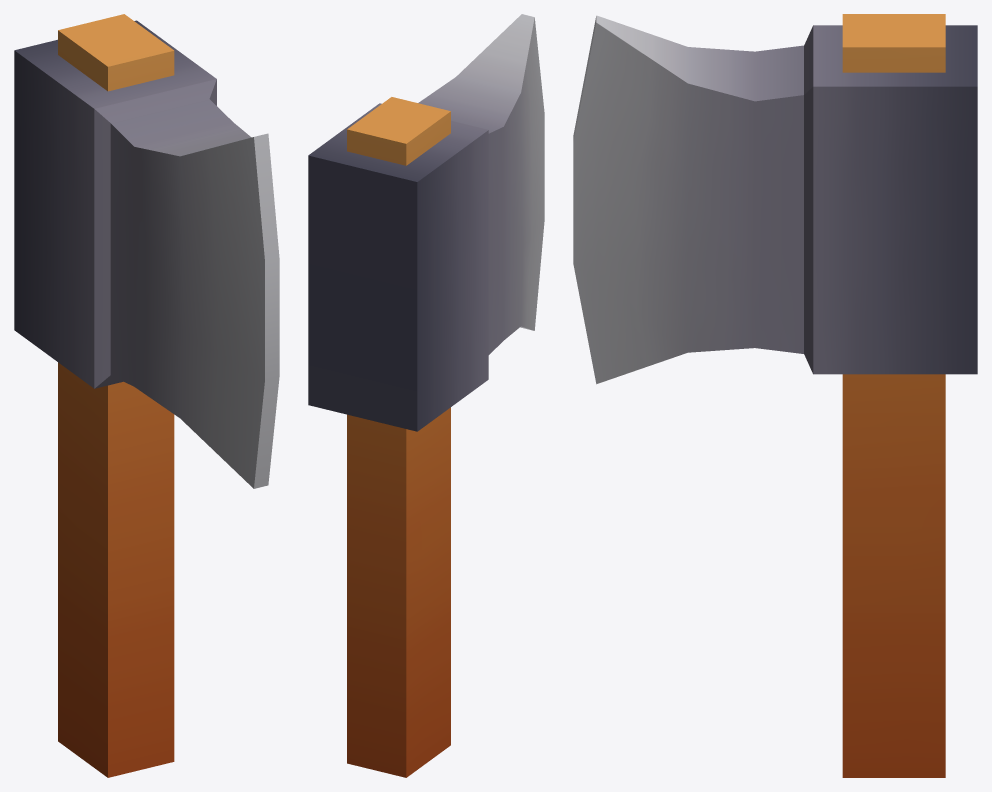
Rendered from SM_Axe.fbx.
The picture shows the model from 3 angles, left to right: view 1: azimuth 30°, elevation 25°; view 2: azimuth 150°, elevation 25°; view 3: azimuth 270°, elevation 25°; orthographic projection. The views are drawn at different scales.
Visible parts, largest first — view 1: SM_Axe; view 2: SM_Axe; view 3: SM_Axe.
Part boxes in pixels (bbox=[...]): SM_Axe: bbox=[14, 14, 279, 777]; SM_Axe: bbox=[308, 14, 544, 777]; SM_Axe: bbox=[573, 14, 977, 777].
Size of the model in its own units: 0.4586 by 2.58 by 1.28.
